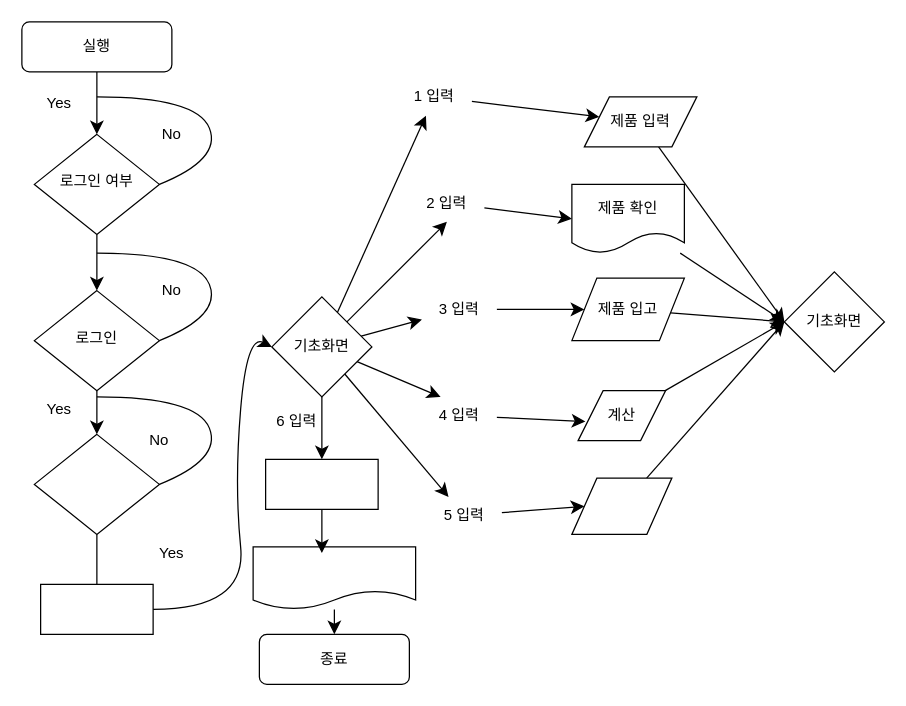
The diagram is 906 pixels wide and 706 high, and some of its shapes have lost their labels. The shapes that lost their labels are listed below. From the top down, each one's box as (x1, y1, x2, y2) in pixels, then its label:
(33, 433, 159, 534): 본인 확인
(264, 458, 378, 509): 시간 측정 완료 및 분 당 돈 계산
(571, 477, 672, 534): 제품 검색
(252, 546, 416, 609): 분 당 9200원 계산 값 남은 잔고량
(39, 583, 153, 634): 시간 측정 시작
